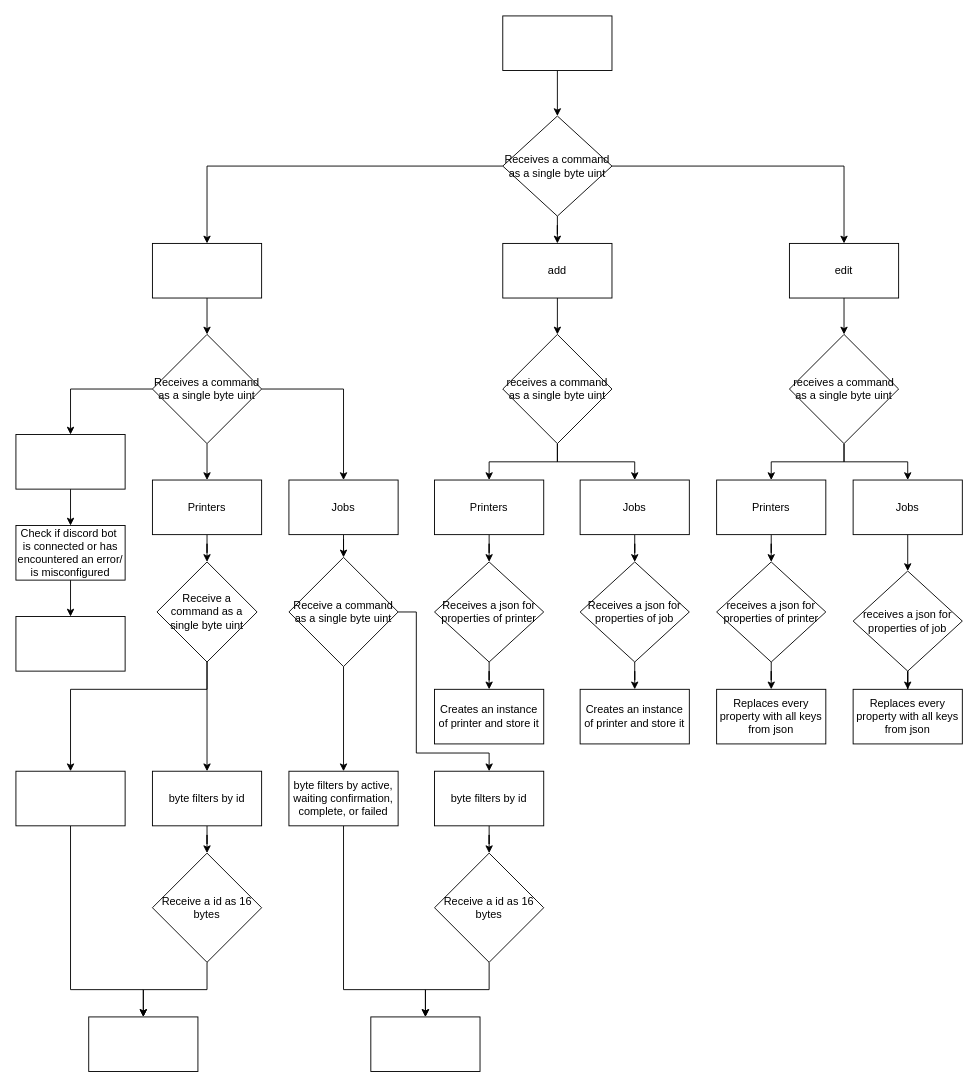
Image size: 978x1087. Some labels were removed from this diagram. The centre of each missing label's shape, as x and y in pixels:
byte filters by active, out of service, idle, or waiting confirmation: point (70, 798)
connection status: point (70, 461)
Endpoint reached: point (557, 43)
get: point (207, 270)
Respond with a single byte signifying bot is operational or specific error: point (70, 643)
returns json of all jobs: point (425, 1044)
returns json of all printers: point (143, 1044)
